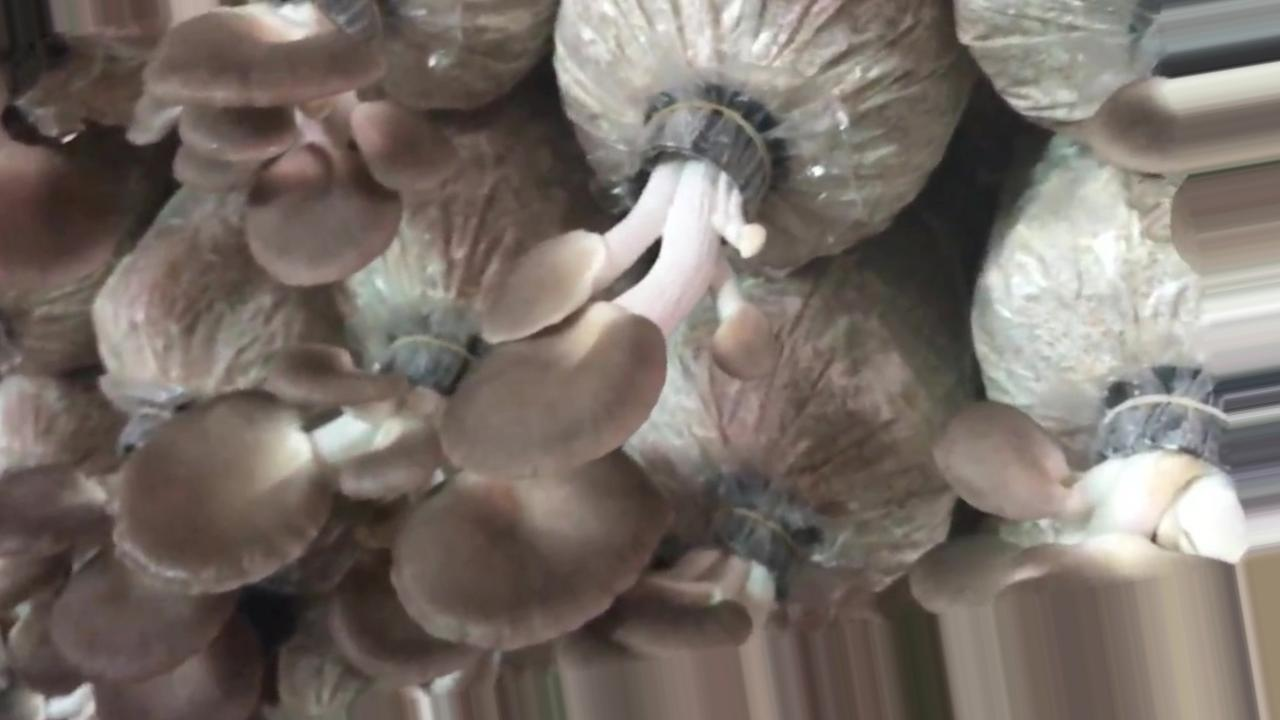nam: (121, 328, 673, 652), (439, 112, 793, 484), (914, 381, 1280, 715), (140, 1, 456, 287)
